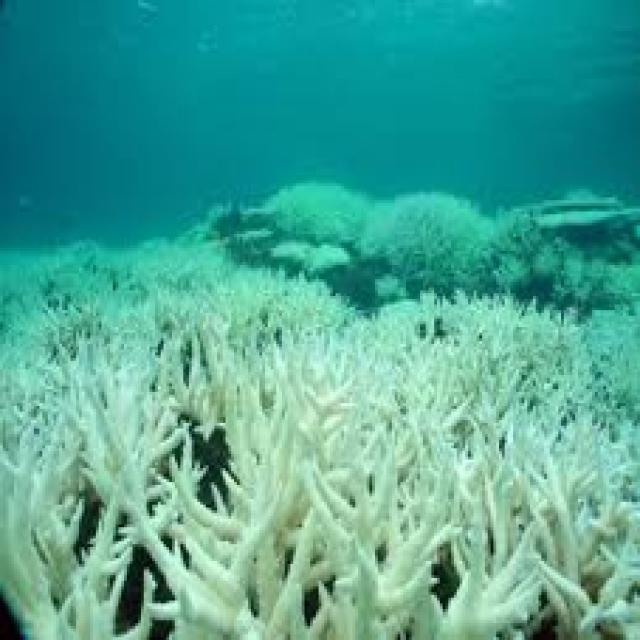Bleached: (1, 307, 640, 640), (1, 248, 333, 310), (375, 199, 492, 281), (471, 213, 559, 289), (586, 310, 640, 424), (268, 187, 372, 232), (557, 262, 640, 313), (271, 243, 354, 274)
